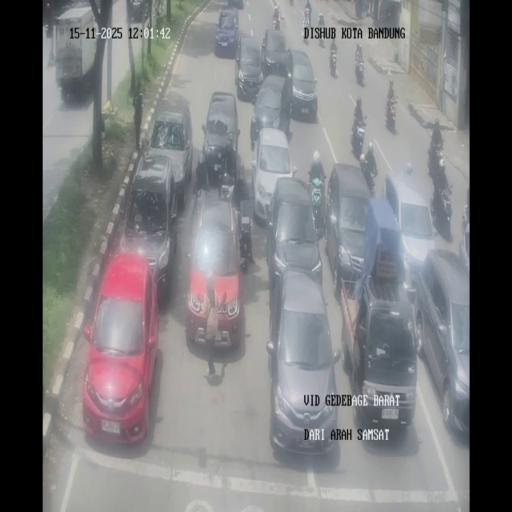3: (53, 5, 98, 100)
car: (82, 252, 160, 444), (341, 263, 418, 437), (266, 270, 338, 456), (413, 250, 469, 440), (185, 190, 246, 349), (119, 152, 179, 297), (382, 170, 438, 290), (326, 163, 374, 292), (251, 124, 296, 226), (200, 90, 240, 186), (284, 48, 318, 122), (234, 34, 263, 100), (260, 28, 290, 77), (214, 7, 240, 57), (458, 220, 470, 282), (128, 0, 145, 22)
truck: (430, 178, 452, 239), (190, 178, 206, 239), (310, 179, 326, 237), (360, 149, 378, 192), (350, 115, 366, 158), (427, 136, 444, 172), (218, 166, 236, 200), (239, 228, 253, 271), (385, 96, 397, 131), (355, 56, 366, 86), (329, 47, 339, 78), (302, 10, 311, 42), (317, 18, 326, 48), (272, 12, 280, 31), (378, 4, 385, 24), (362, 0, 369, 17)
